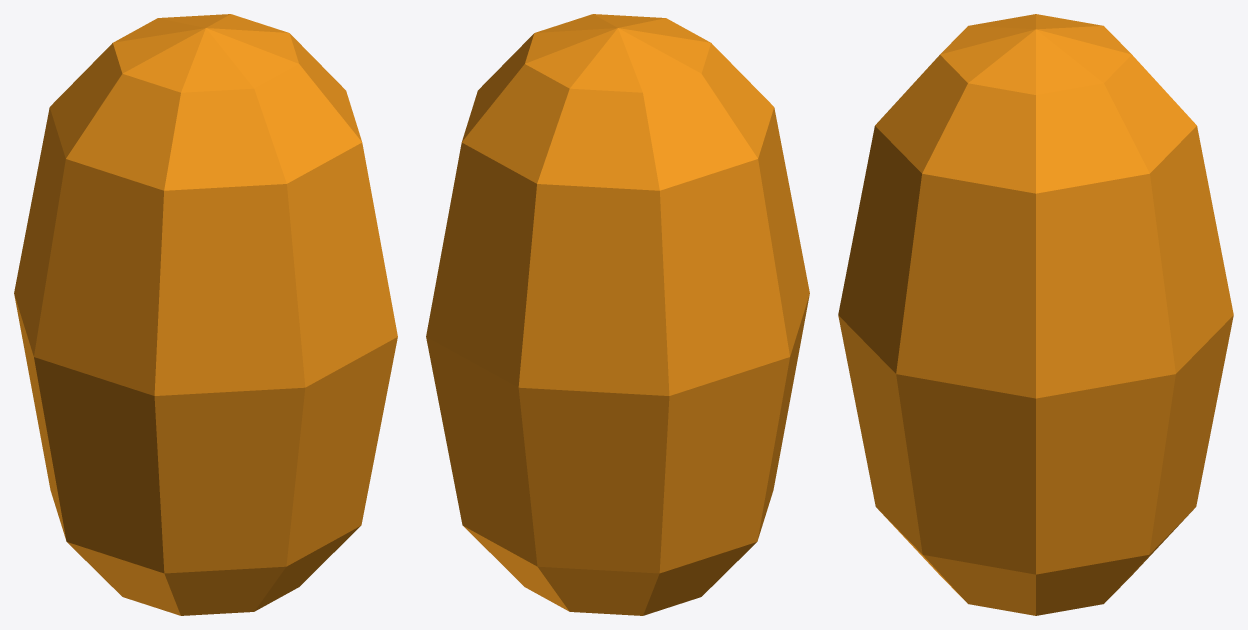
File: TurtleEgg_Gold.fbx
3 views of the same model, side by side, from view 1: azimuth 30°, elevation 25°; view 2: azimuth 150°, elevation 25°; view 3: azimuth 270°, elevation 25° (orthographic).
Parts seen in each view (by area): view 1: GoldenTortugaEgg; view 2: GoldenTortugaEgg; view 3: GoldenTortugaEgg.
Boxes of the visible parts, bbox=[...] form: GoldenTortugaEgg: bbox=[14, 14, 397, 615]; GoldenTortugaEgg: bbox=[426, 14, 809, 615]; GoldenTortugaEgg: bbox=[838, 14, 1233, 615].
Size of the model in its own units: 4.79 by 7.64 by 4.79.
